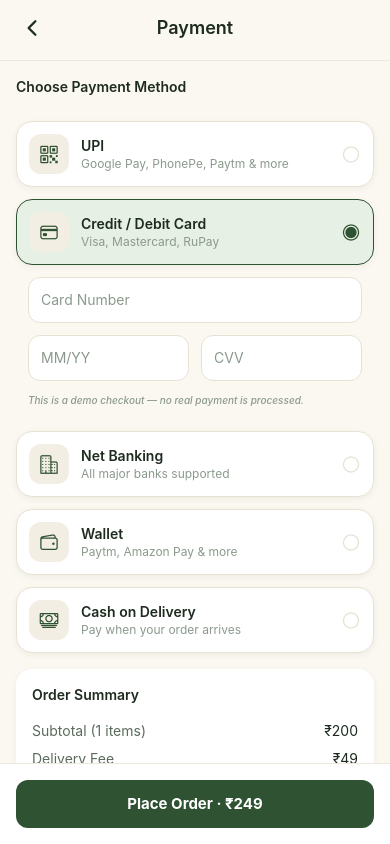
Test case: CheckoutPaymentScreen › card payment validation › blocks the order and shows errors when the card fields are left empty
Click the button "Place Order · ₹249".
click(195, 804)  # box x1=16 y1=780 x2=374 y2=828
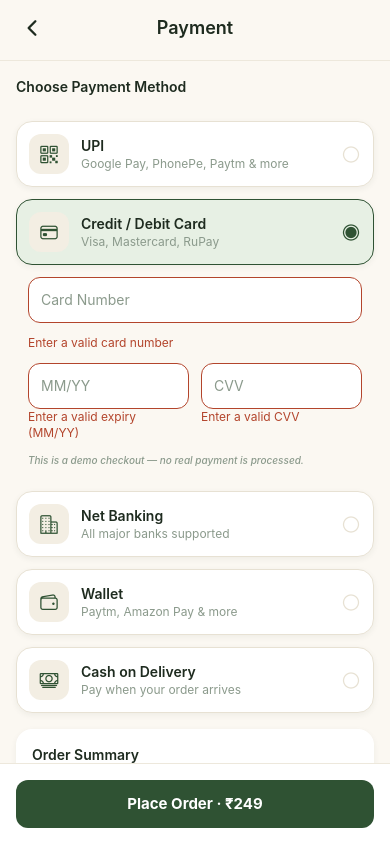
Now the text "Enter a valid card number" is shown, box x1=28 y1=335 x2=173 y2=350
Now the text "Enter a valid expiry (MM/YY)" is shown, box x1=28 y1=409 x2=139 y2=440
Now the text "Enter a valid CVV" is shown, box x1=201 y1=409 x2=300 y2=424
